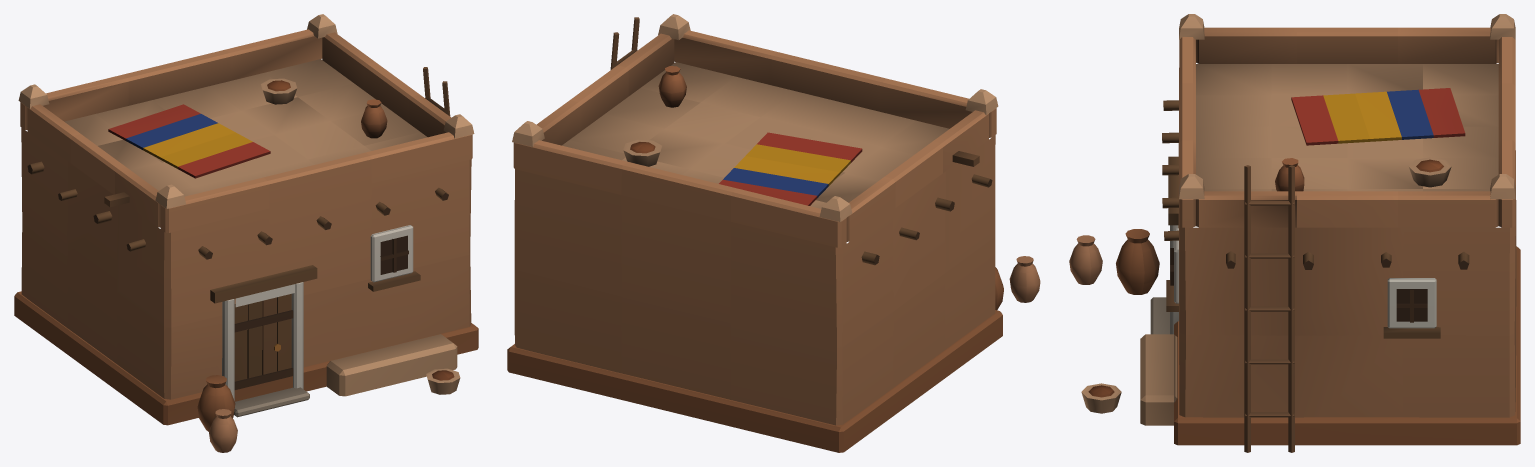
File: maison_a.glb
3 views of the same model, side by side, from view 1: azimuth 30°, elevation 25°; view 2: azimuth 150°, elevation 25°; view 3: azimuth 270°, elevation 25° (orthographic). The views are drawn at different scales.
Visible parts, largest first — view 1: maison_a; view 2: maison_a; view 3: maison_a.
Part boxes in pixels (x1,y1,x2,y2): maison_a: [14, 14, 478, 452]; maison_a: [507, 14, 1040, 452]; maison_a: [1069, 14, 1520, 452].
Bounding box in the file's own units: 1.78 × 1.18 × 1.75.
